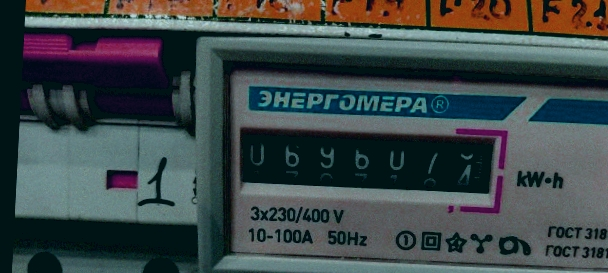0: (246, 137, 267, 168), (386, 141, 407, 172)
4: (453, 161, 473, 189)
6: (280, 138, 303, 169), (352, 141, 372, 170)
7: (421, 144, 440, 175)
9: (316, 140, 336, 170)
screen: (220, 109, 509, 213)
